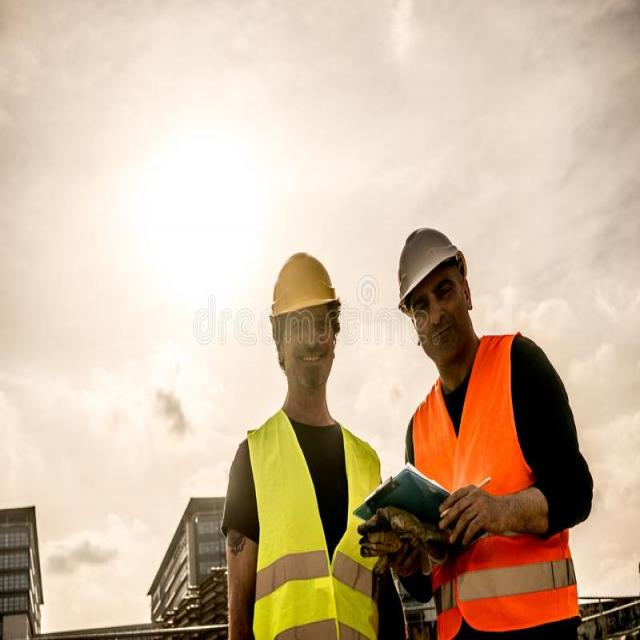Reflective-Jacket: (403, 336, 583, 640), (236, 404, 385, 640)
Safety-Helmet: (392, 218, 470, 308), (266, 245, 344, 324)
